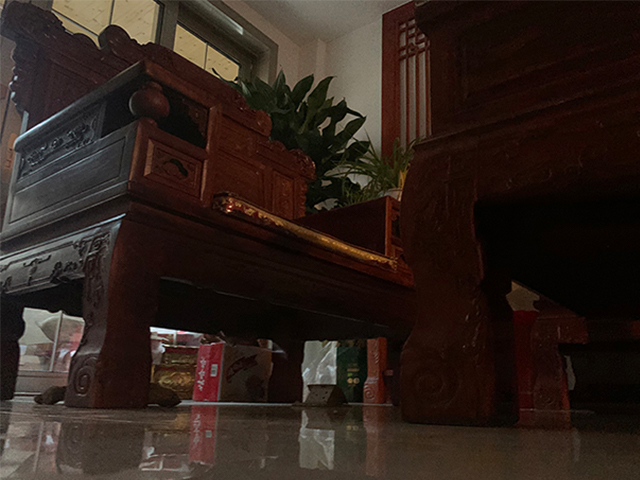sofa: (1, 1, 412, 411)
table: (396, 1, 640, 424)
